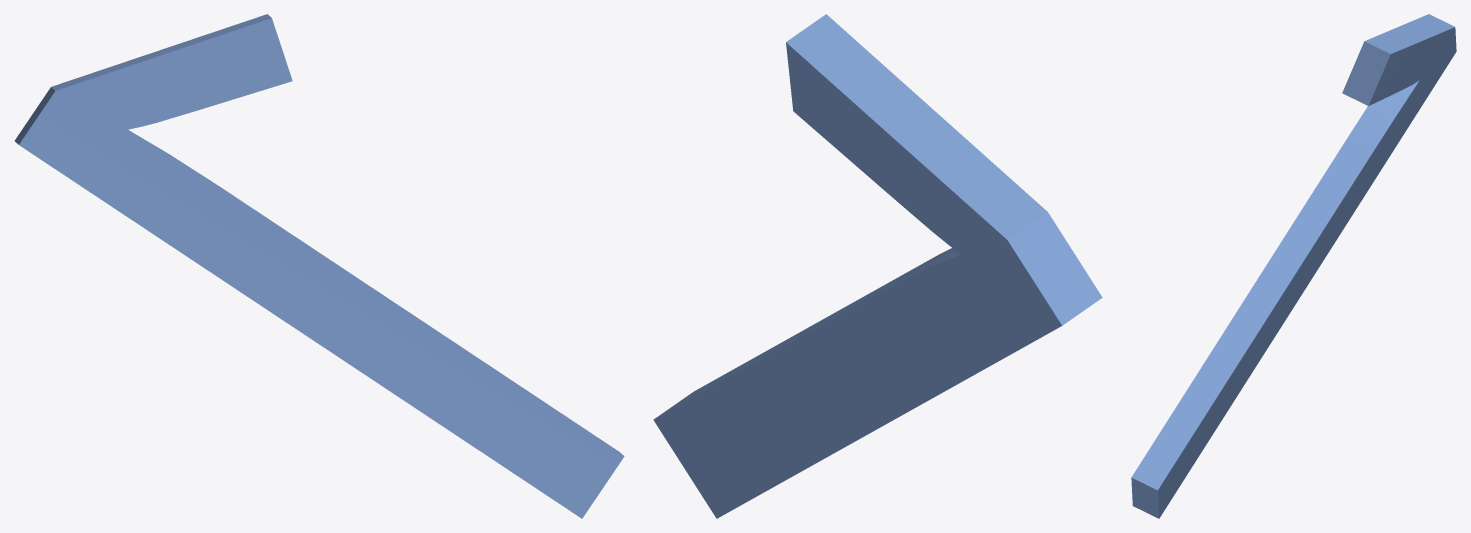
The model's file is New_Number_1.gltf.
3 views of the same model, side by side, from view 1: azimuth 30°, elevation 25°; view 2: azimuth 150°, elevation 25°; view 3: azimuth 270°, elevation 25° (orthographic). The views are drawn at different scales.
Visible parts, largest first — view 1: Part 514; view 2: Part 514; view 3: Part 514.
Boxes of the visible parts, box(x1,y1,x2,y2) form: Part 514: box(14, 14, 624, 518); Part 514: box(653, 14, 1102, 518); Part 514: box(1131, 14, 1456, 518).
Size of the model in its own units: 0.00379 by 0.00371 by 0.00275.
